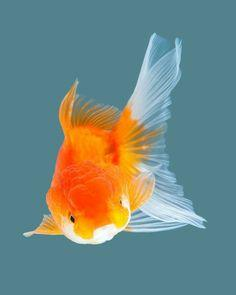goldfish: (29, 98, 208, 259)
